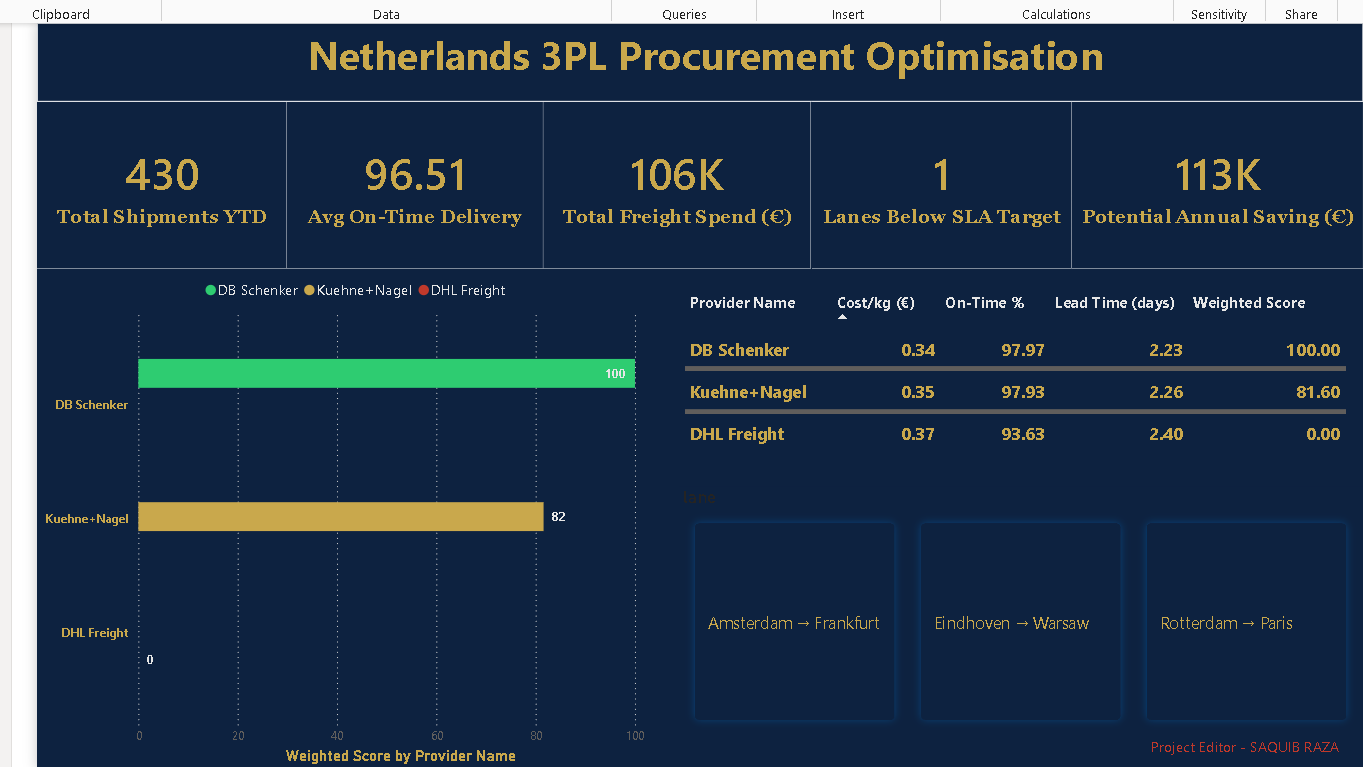

The page's visual inventory and layout, read from the dashboard file:
{"tool":"powerbi","page":{"name":"Executive Summary","canvas":[1280,720],"ordinal":0},"visuals":[{"type":"cardVisual","fields":{"Data":["Sum(provider_scorecard.total_shipments_ytd)"]},"box":[0,76.2,241.2,161.2],"z":0},{"type":"cardVisual","fields":{"Data":["Avg(provider_scorecard.avg_on_time_pct)"]},"box":[241.2,76.2,247.5,161.2],"z":1000},{"type":"cardVisual","fields":{"Data":["Sum(provider_scorecard.total_spend_eur)"]},"box":[488.8,76.2,258.8,161.2],"z":2000},{"type":"cardVisual","fields":{"Data":["provider_scorecard.SLA Breach Count"]},"box":[748,76,250.9,161.7],"z":3000},{"type":"cardVisual","fields":{"Data":["provider_scorecard.Potential Annual Saving"]},"box":[998.8,76.2,281.2,161.2],"z":4000},{"type":"clusteredBarChart","fields":{"Y":["provider_scorecard.Weighted Score"],"Category":["provider_scorecard.provider_name"],"Series":["provider_scorecard.provider_name"]},"box":[0,237.5,618.8,482.5],"z":5000},{"type":"tableEx","fields":{"Values":["provider_scorecard.provider_name","Avg(provider_scorecard.avg_cost_per_kg)","Avg(provider_scorecard.avg_on_time_pct)","Avg(provider_scorecard.avg_lead_time_days)","provider_scorecard.Weighted Score"]},"box":[618.8,247.5,661.2,231.2],"z":6000},{"type":"advancedSlicerVisual","fields":{"Values":["provider_scorecard.lane"]},"box":[618.8,447.5,661.2,241.2],"z":7000},{"type":"textbox","box":[0,0,1280,76.2],"z":8000},{"type":"textbox","box":[1070,683.8,210,36.2],"z":9000}]}

Visuals, with their boxes on the page's 1280x720 design canvas (x1, y1, x2, y2). These are canvas units, not pixel positions in the 1363x767 screenshot, which may show the page scaled, cropped or inside an application window:
cardVisual - Sum(provider_scorecard.total_shipments_ytd): BBox(0, 76, 241, 237)
cardVisual - Avg(provider_scorecard.avg_on_time_pct): BBox(241, 76, 489, 237)
cardVisual - Sum(provider_scorecard.total_spend_eur): BBox(489, 76, 748, 237)
cardVisual - provider_scorecard.SLA Breach Count: BBox(748, 76, 999, 238)
cardVisual - provider_scorecard.Potential Annual Saving: BBox(999, 76, 1280, 237)
clusteredBarChart - provider_scorecard.Weighted Score x provider_scorecard.provider_name: BBox(0, 238, 619, 720)
tableEx - provider_scorecard.provider_name x Avg(provider_scorecard.avg_cost_per_kg): BBox(619, 248, 1280, 479)
advancedSlicerVisual - provider_scorecard.lane: BBox(619, 448, 1280, 689)
textbox: BBox(0, 0, 1280, 76)
textbox: BBox(1070, 684, 1280, 720)
